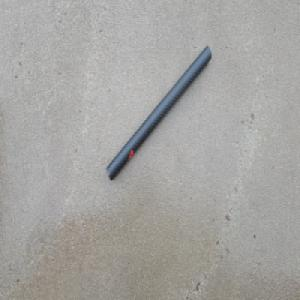LuggagePart: (105, 44, 212, 184)
